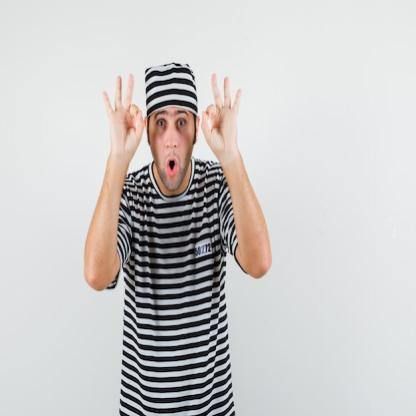ok: (100, 69, 146, 159)
